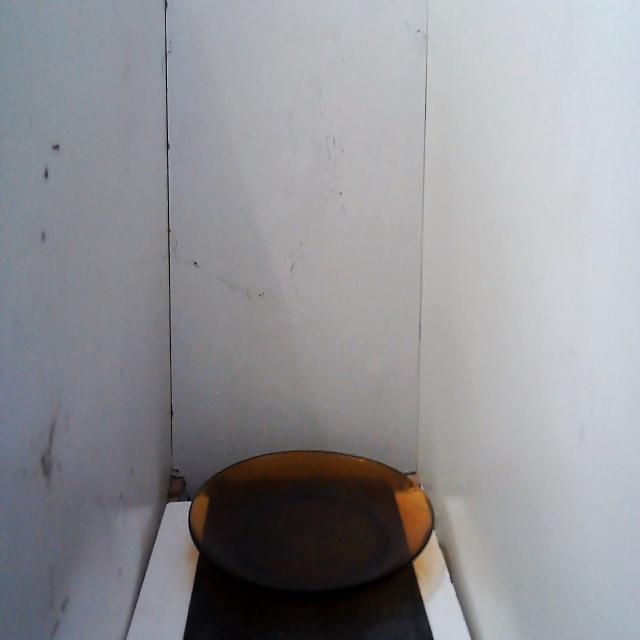vidro: (183, 441, 439, 608)
